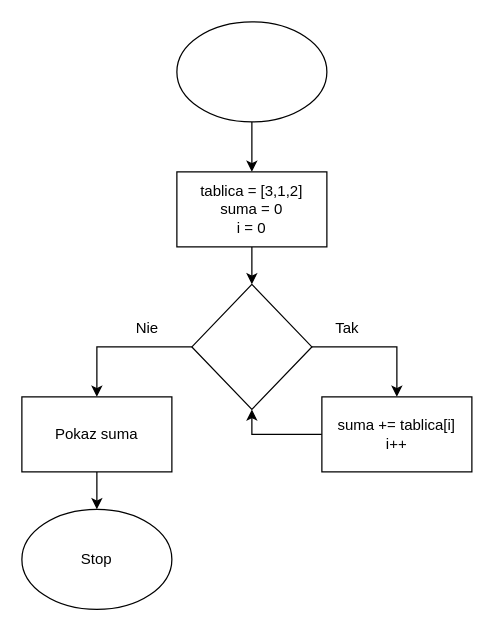
This 494x631 diagram has some shape labels left out. The box of each missing label's shape, as (x1, y1, x2, y2) in pixels:
i < dlugosc tablicy: (191, 283, 312, 409)
Start: (176, 21, 327, 122)
